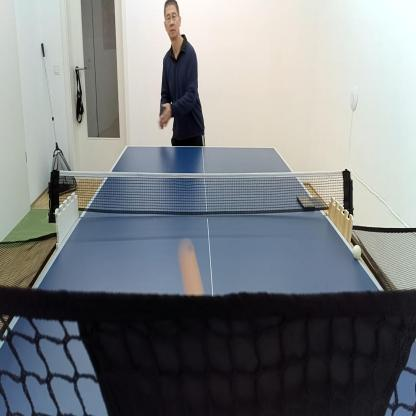Ball: (177, 238, 205, 297), (352, 242, 363, 262)
